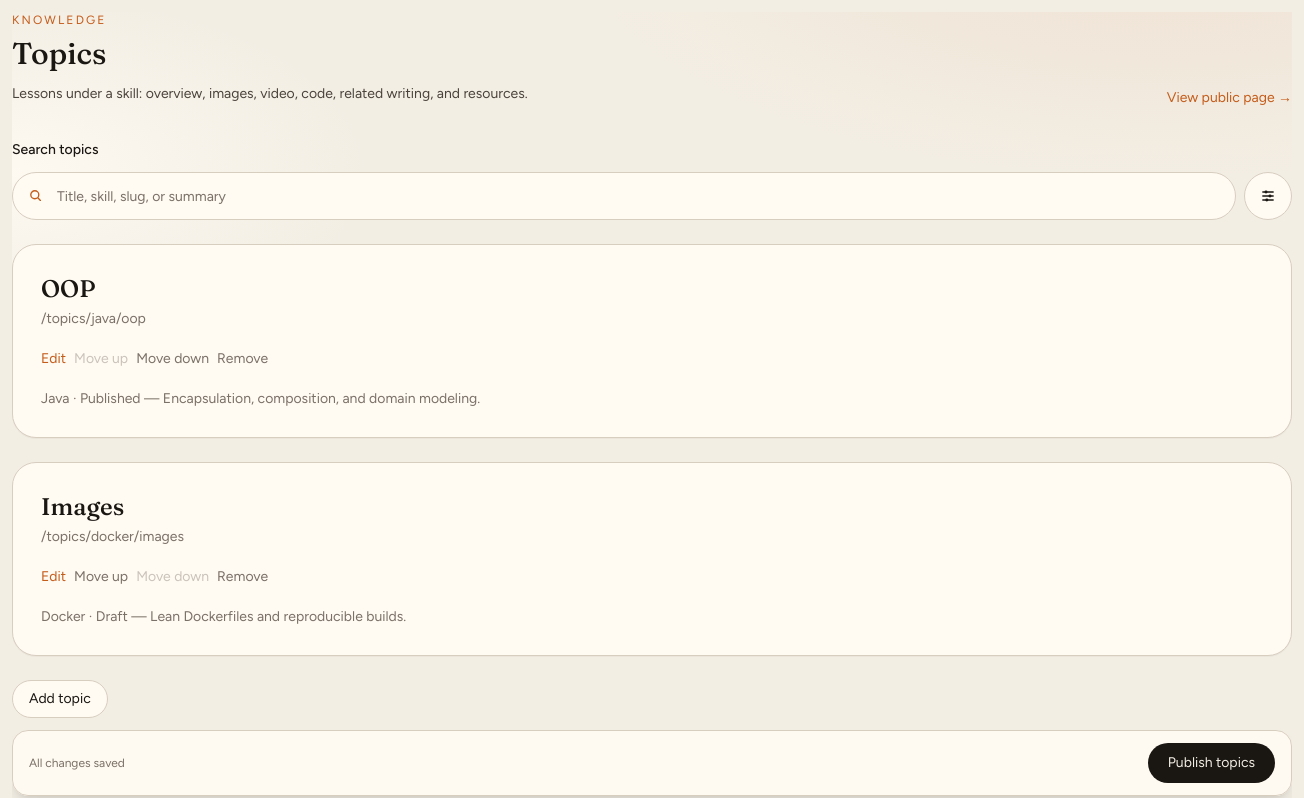
Test: AdminTopicsPage › filters the list by skill and draft status
Expected: the heading "OOP" is shown, left=41, top=274, right=96, bottom=303
Expected: the heading "Images" is shown, left=41, top=492, right=124, bottom=521
What coordinates should you click on to do the following:
click the button named "Filters"
I would click on:
 (1268, 196)
Its box is left=1244, top=172, right=1292, bottom=220.
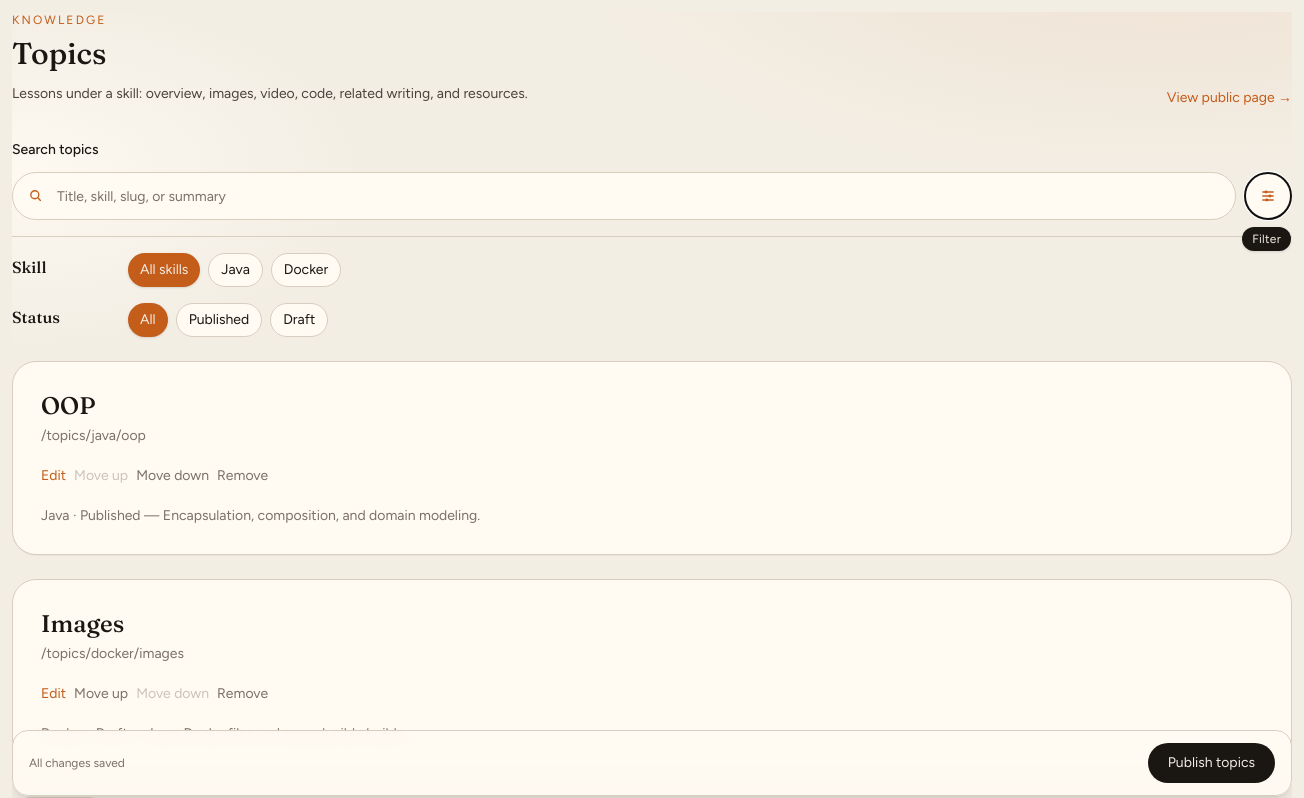
What coordinates should you click on to do the following:
click the button "Docker"
I would click on:
 (306, 270)
Its box is left=271, top=253, right=341, bottom=287.
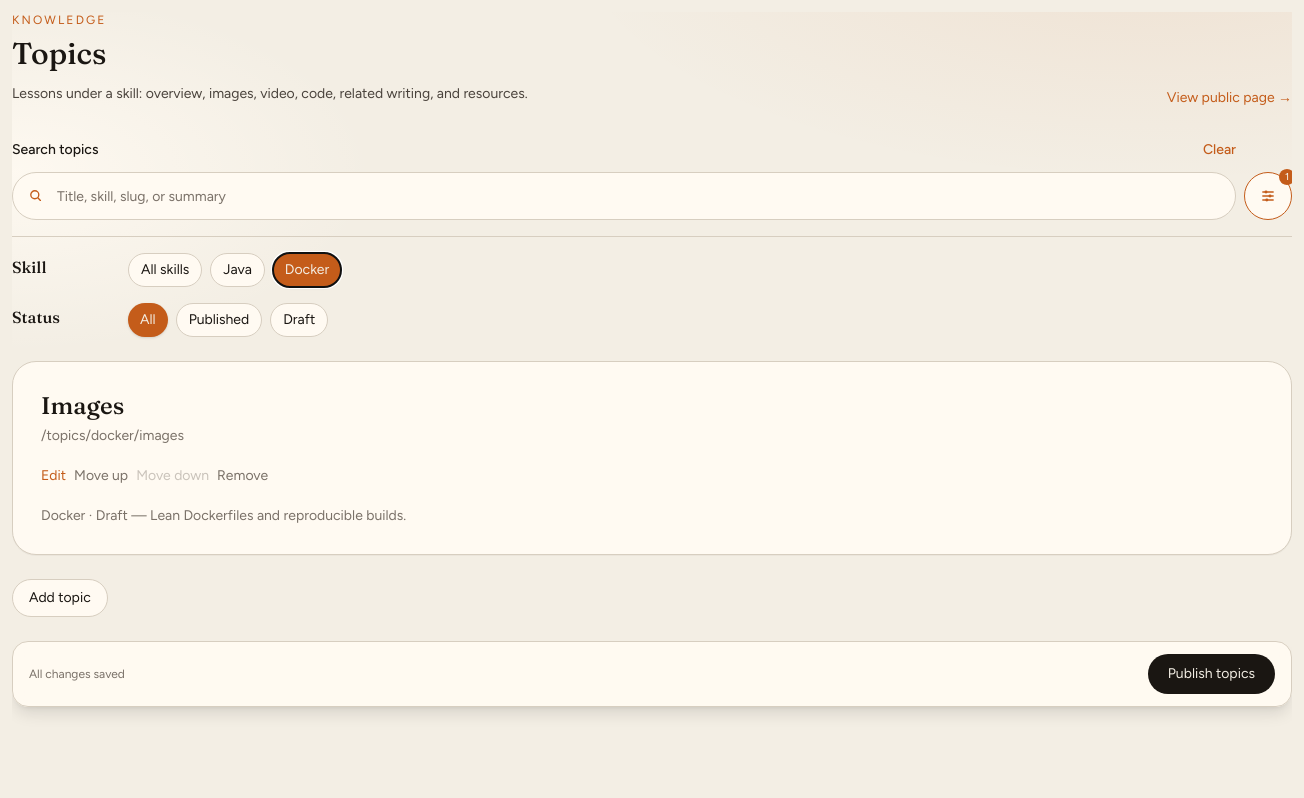
Expected: the heading "Images" is shown, left=41, top=391, right=124, bottom=420
Result: the heading "OOP" is gone
What coordinates should you click on to do the following:
click the button "All skills"
I would click on:
 (165, 270)
Its box is left=128, top=253, right=202, bottom=287.
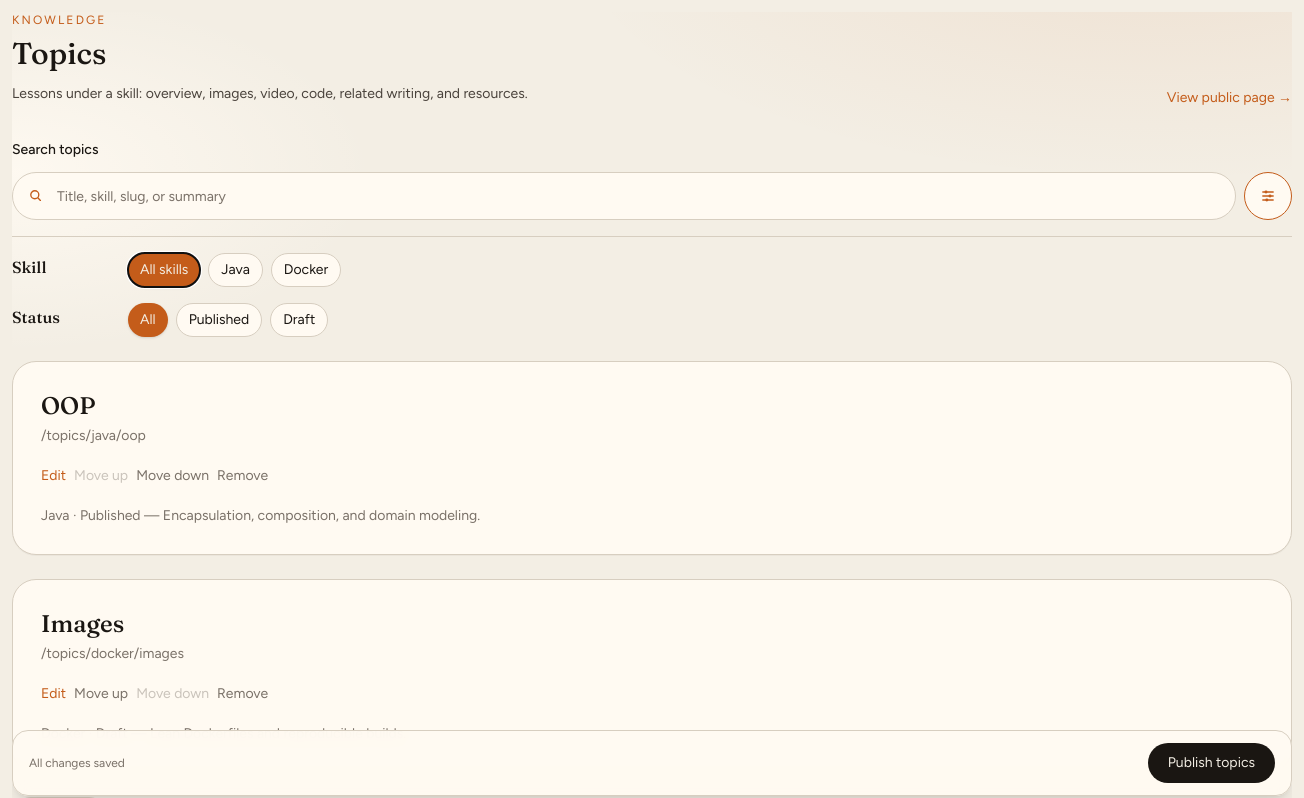
What coordinates should you click on to do the following:
click the button "Draft"
I would click on:
 (299, 320)
Its box is left=270, top=303, right=328, bottom=337.
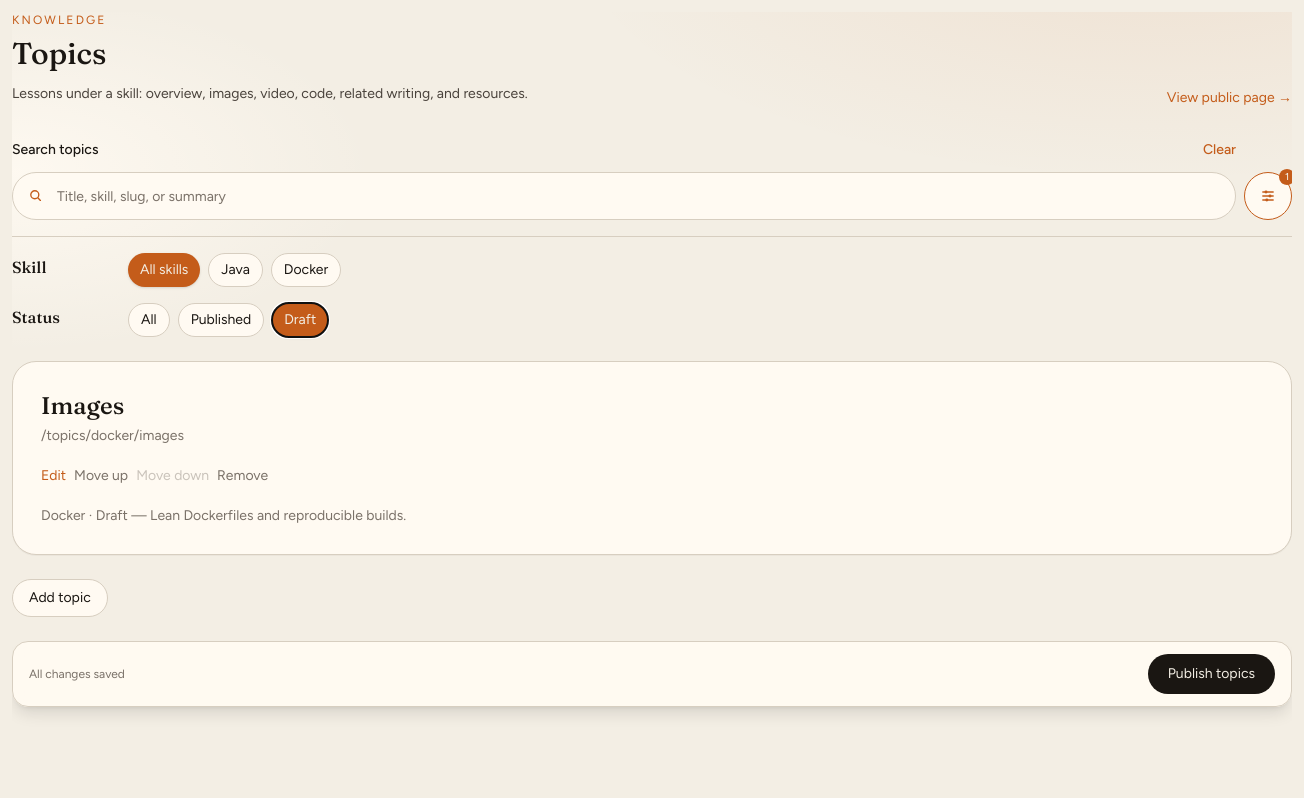
Expected: the heading "Images" is shown, left=41, top=391, right=124, bottom=420
Result: the heading "OOP" is gone
What coordinates should you click on to do the following:
click the button "Published"
I would click on:
 (221, 320)
Its box is left=178, top=303, right=264, bottom=337.
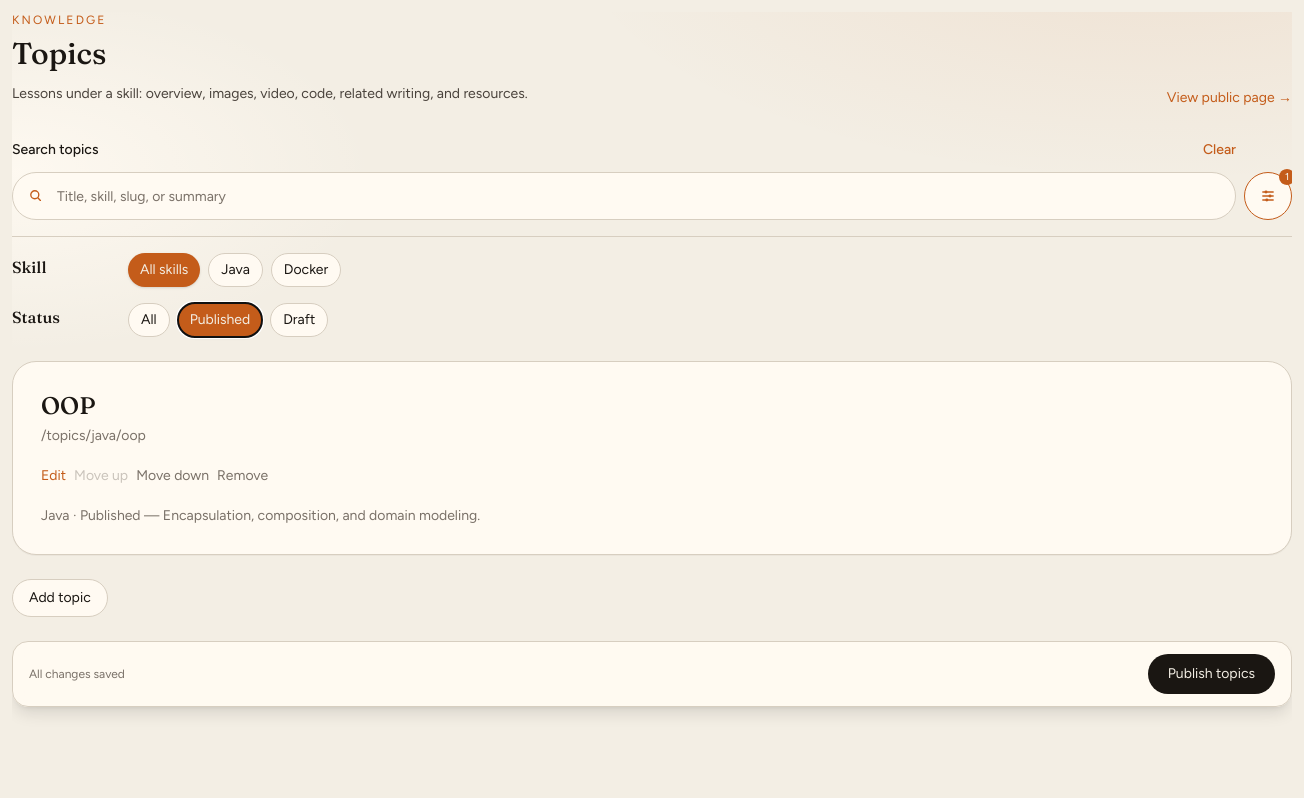
Result: the heading "OOP" is shown at left=41, top=391, right=96, bottom=420
